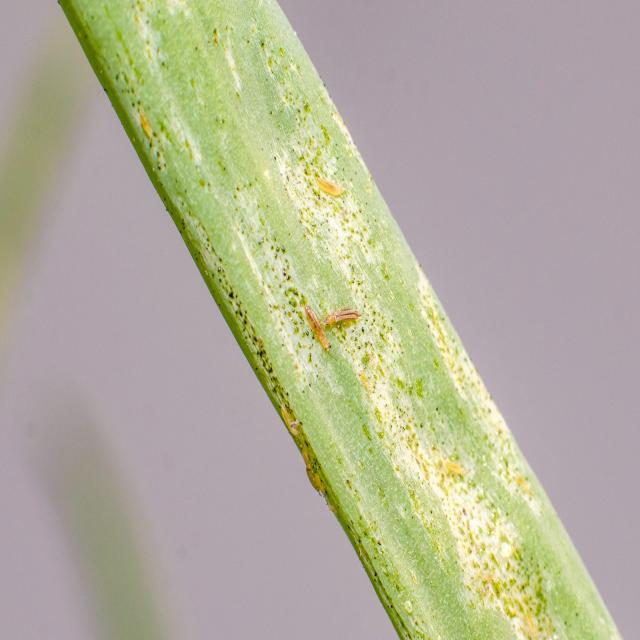Thrip-Adult-: (301, 304, 332, 361), (310, 173, 350, 200), (324, 308, 363, 328)
